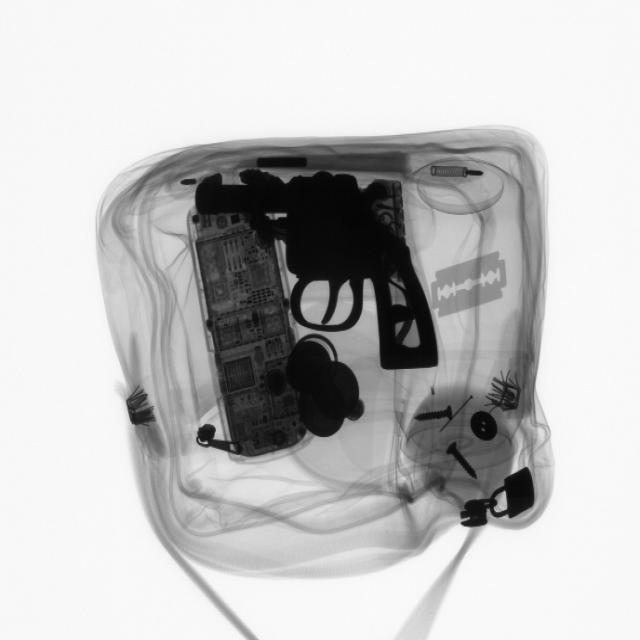BLADE: (431, 250, 513, 323)
GUN: (194, 172, 430, 383)
SCREW: (444, 437, 483, 482), (408, 400, 462, 432)
